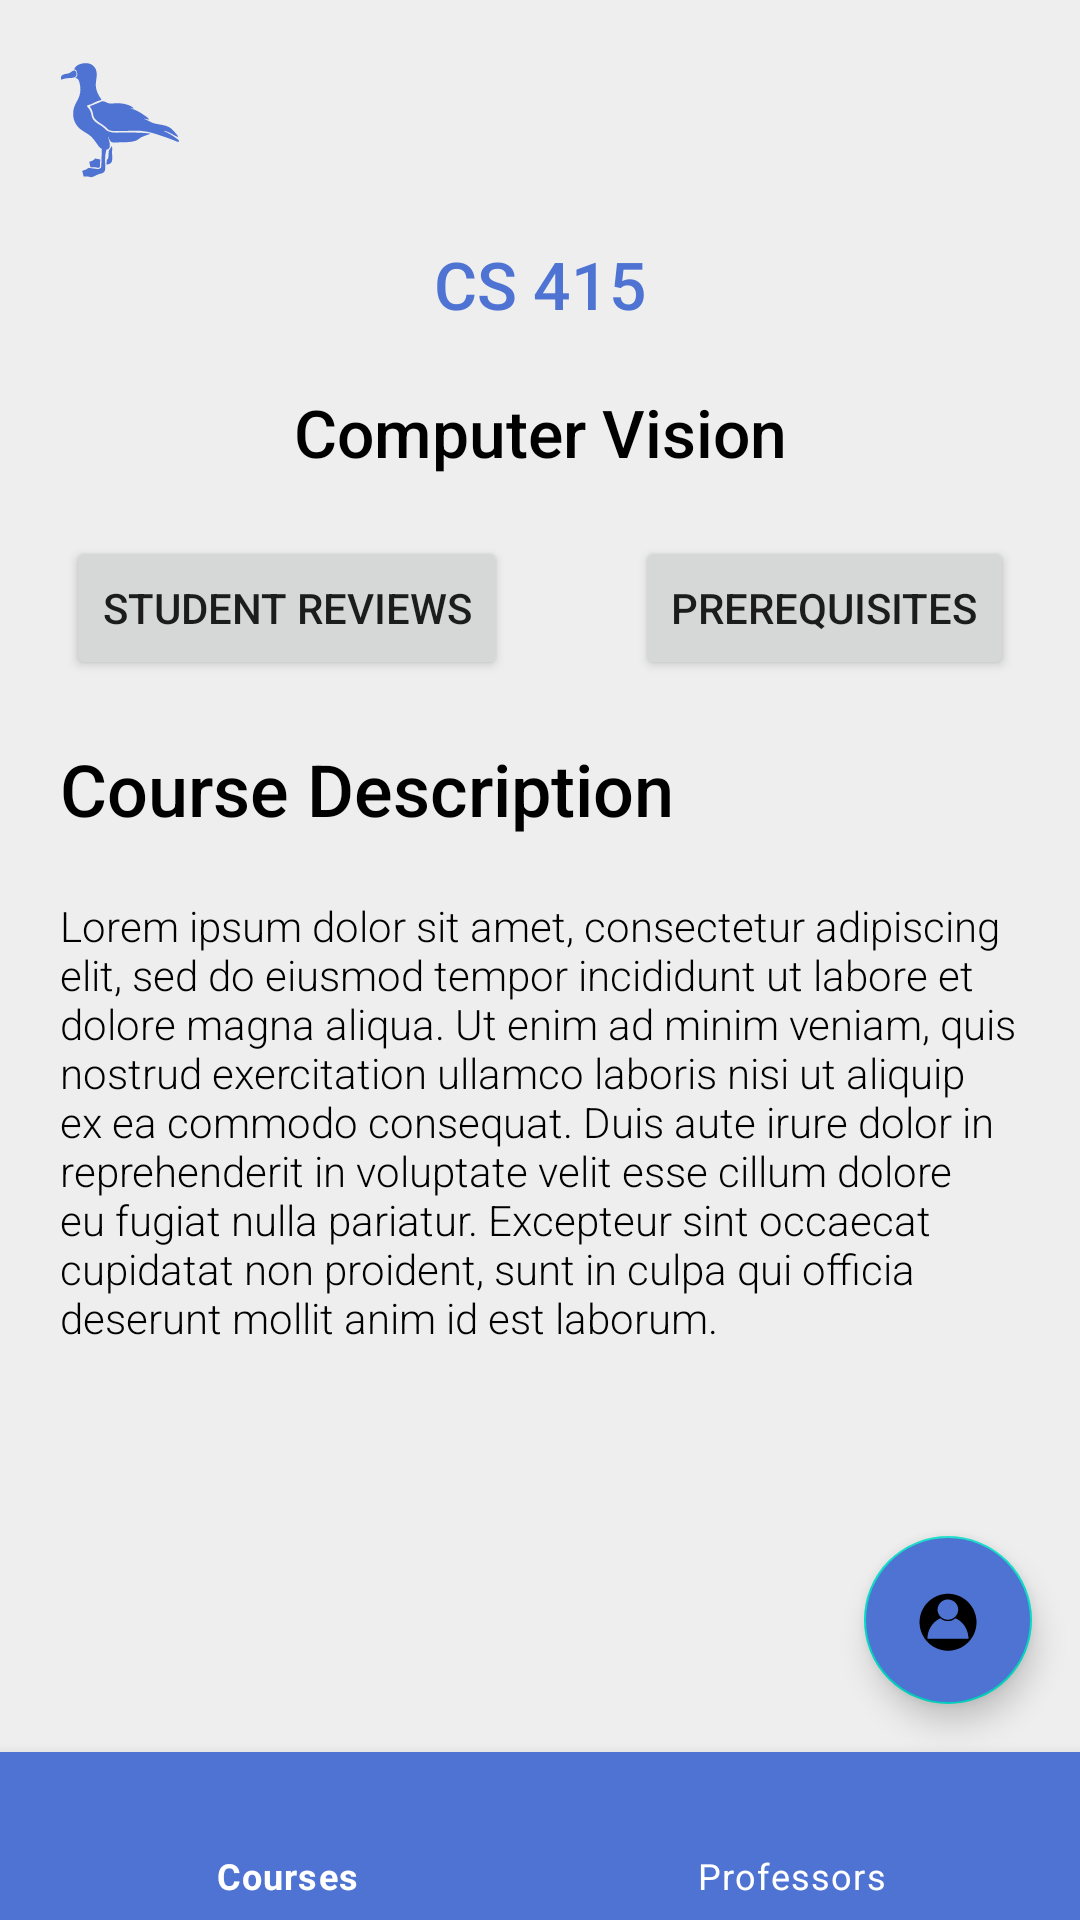

Where icons sit on this 1080w x 1920h app screen, as (x1,y1,x2,y2):
albatross: (61,63,179,177)
